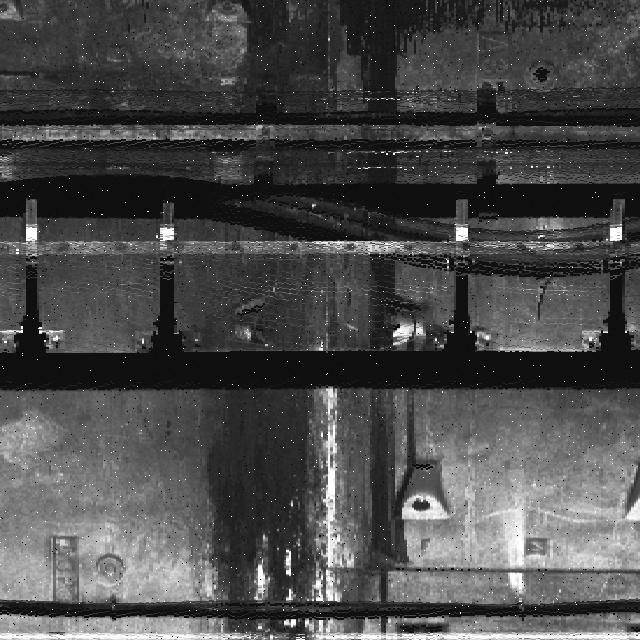leakage: (204, 1, 322, 640), (336, 1, 425, 632)
